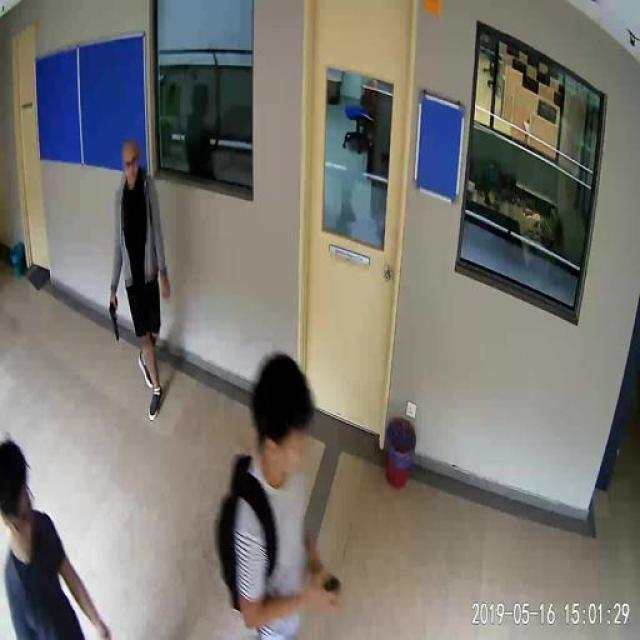Gun: (103, 290, 129, 348)
